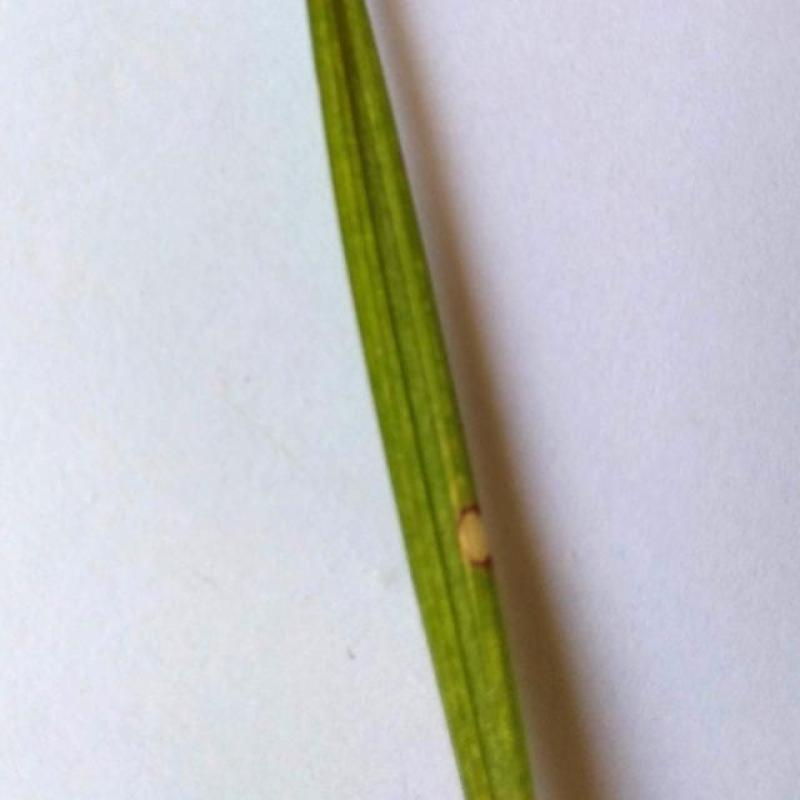Leaf_Blast: (435, 490, 511, 588)
